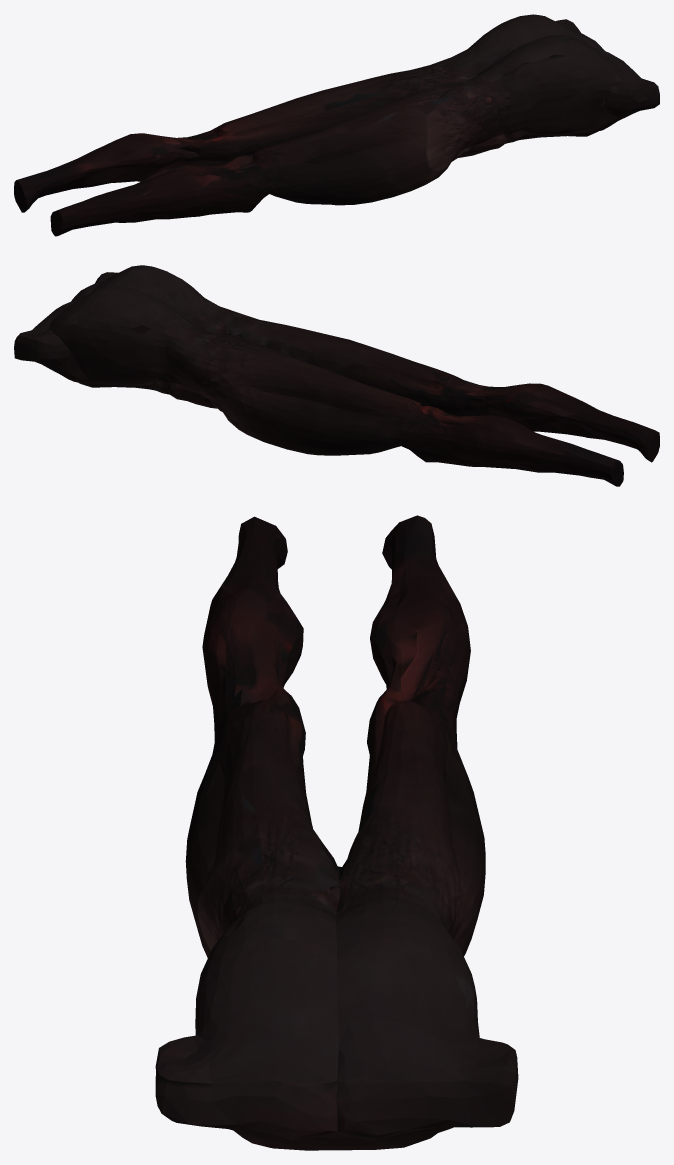
Rendered from nick_body_comfyui.glb.
3 views of the same model, one above another, from view 1: azimuth 30°, elevation 25°; view 2: azimuth 150°, elevation 25°; view 3: azimuth 270°, elevation 25° (orthographic). The views are drawn at different scales.
Bounding box in the file's own units: 1 × 0.1939 × 0.2715.
Materials: 1 (1 with a texture image).
